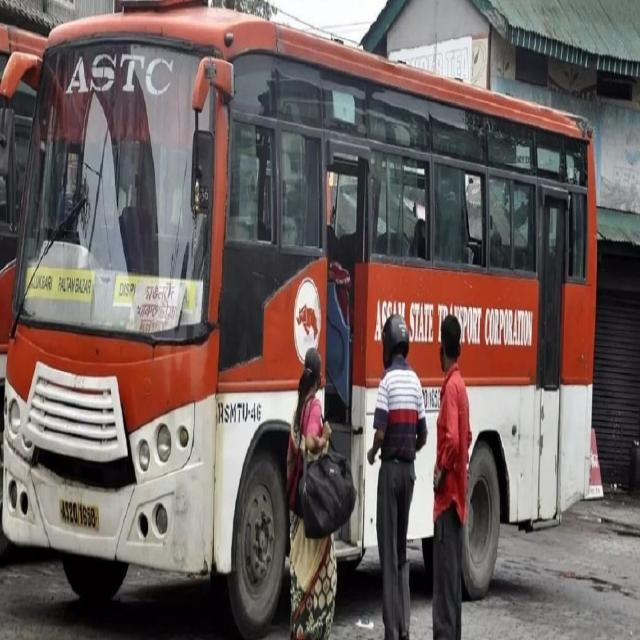Bus: (2, 0, 596, 631), (0, 12, 75, 374)
